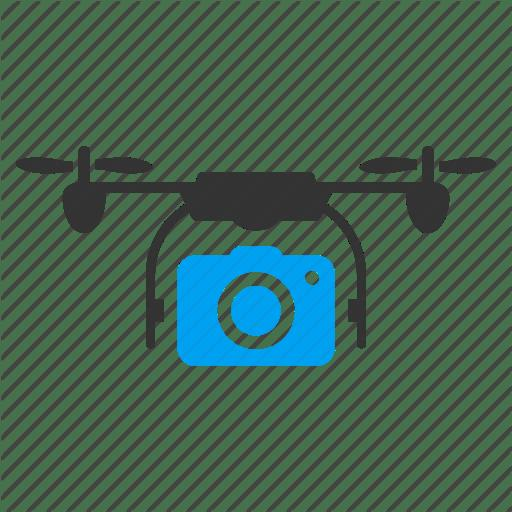drone: (6, 140, 503, 276)
